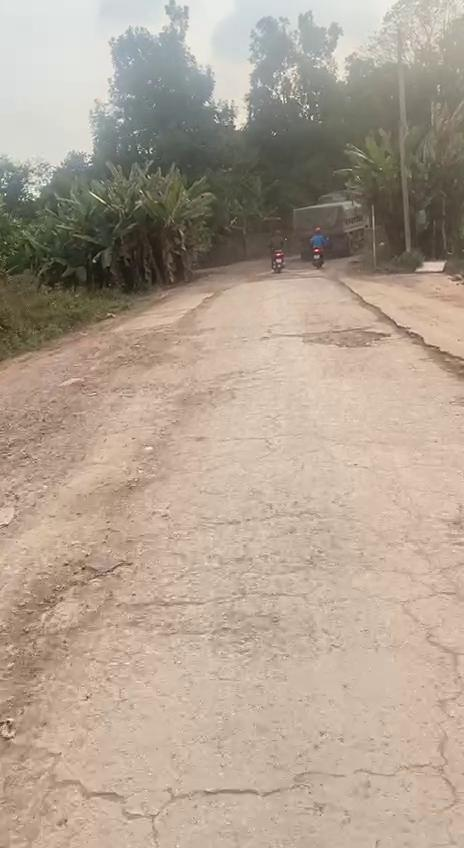pothole: (302, 326, 387, 349)
